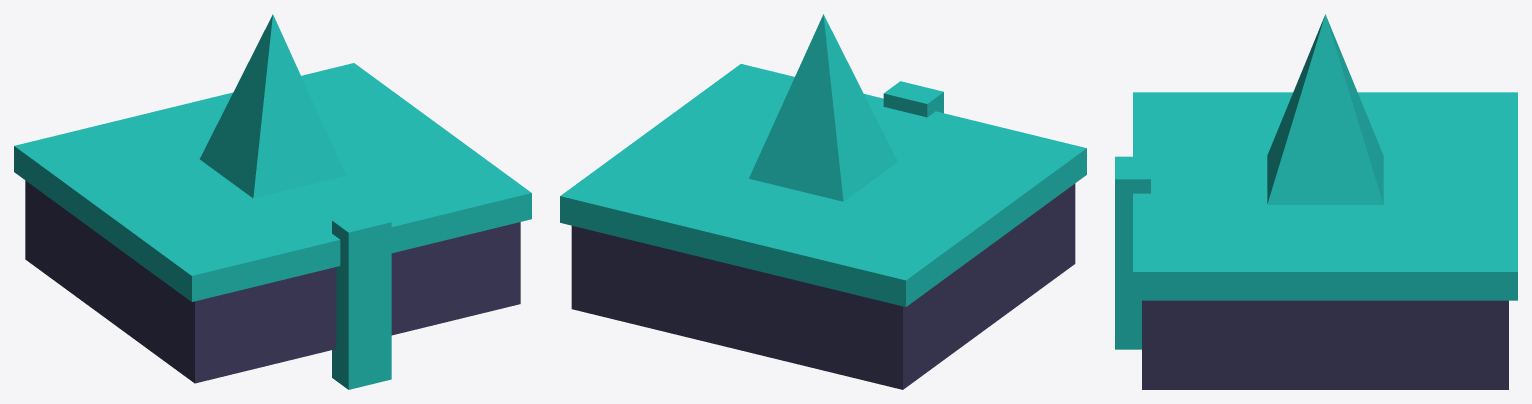
File: head-2.obj
3 renders of one model, left to right at view 1: azimuth 30°, elevation 25°; view 2: azimuth 150°, elevation 25°; view 3: azimuth 270°, elevation 25°, orthographic. The views are drawn at different scales.
Size of the model in its own units: 0.95 by 0.8 by 0.9.
